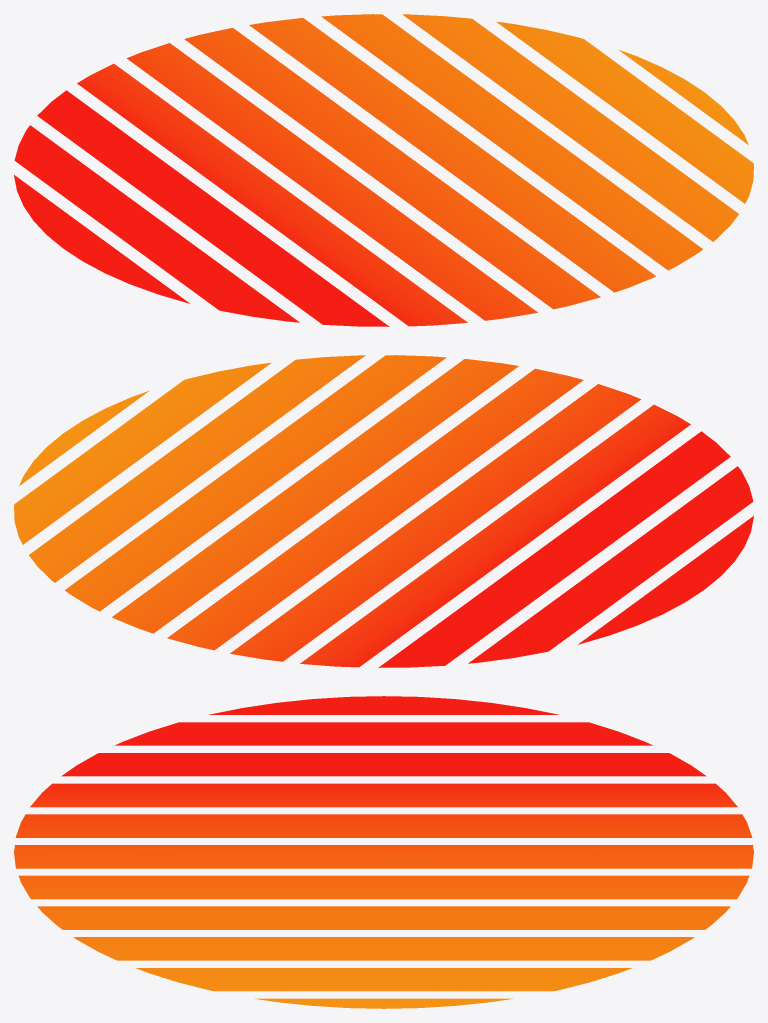
Rendered from retrosun2.glb.
3 views of the same model, one above another, from view 1: azimuth 30°, elevation 25°; view 2: azimuth 150°, elevation 25°; view 3: azimuth 270°, elevation 25° (orthographic).
Parts seen in each view (by area): view 1: Circle; view 2: Circle; view 3: Circle.
Part boxes in pixels (<box>): Circle: <box>14,14,753,326</box>; Circle: <box>14,355,753,667</box>; Circle: <box>14,696,753,1008</box>.
Size of the model in its own units: 2 by 0 by 2.
Materials: 1 (1 with a texture image).
